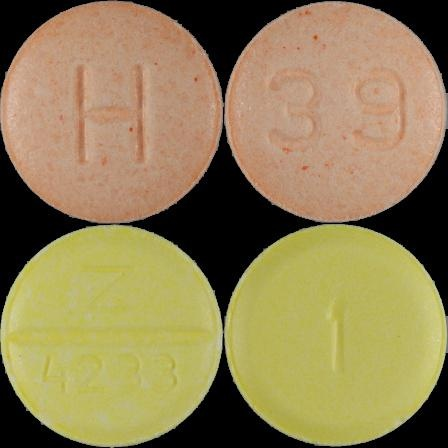68071-2012: (0, 0, 224, 224)
